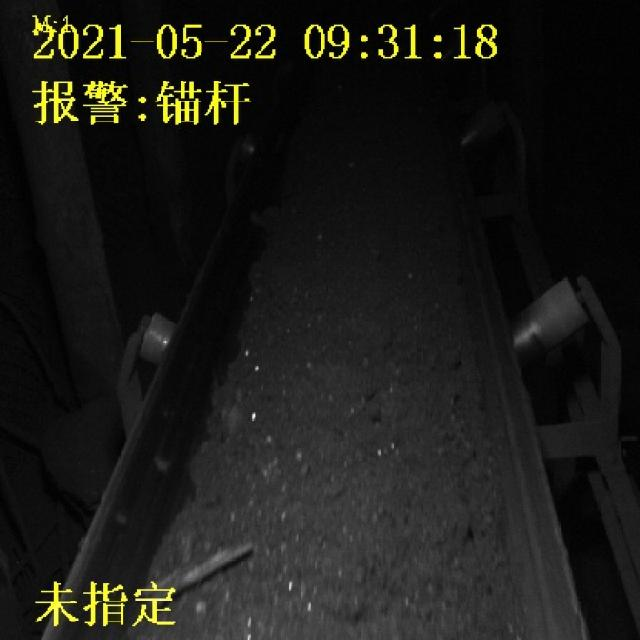bolt: (174, 538, 254, 598)
